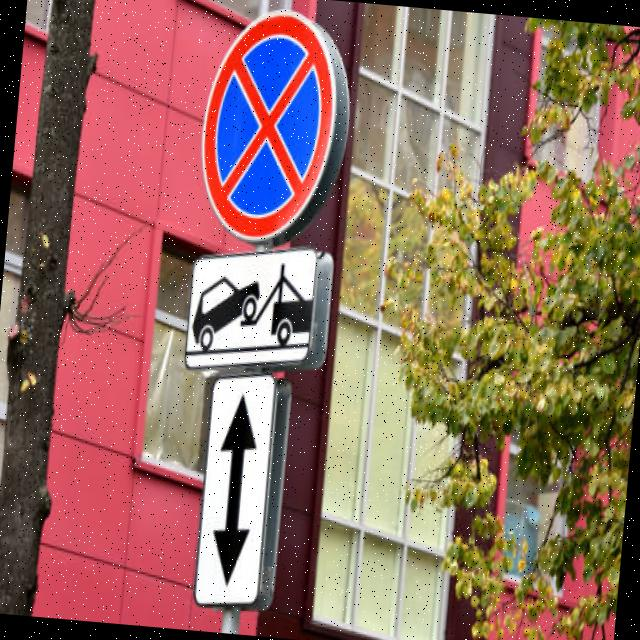no_parking: (187, 0, 350, 253)
